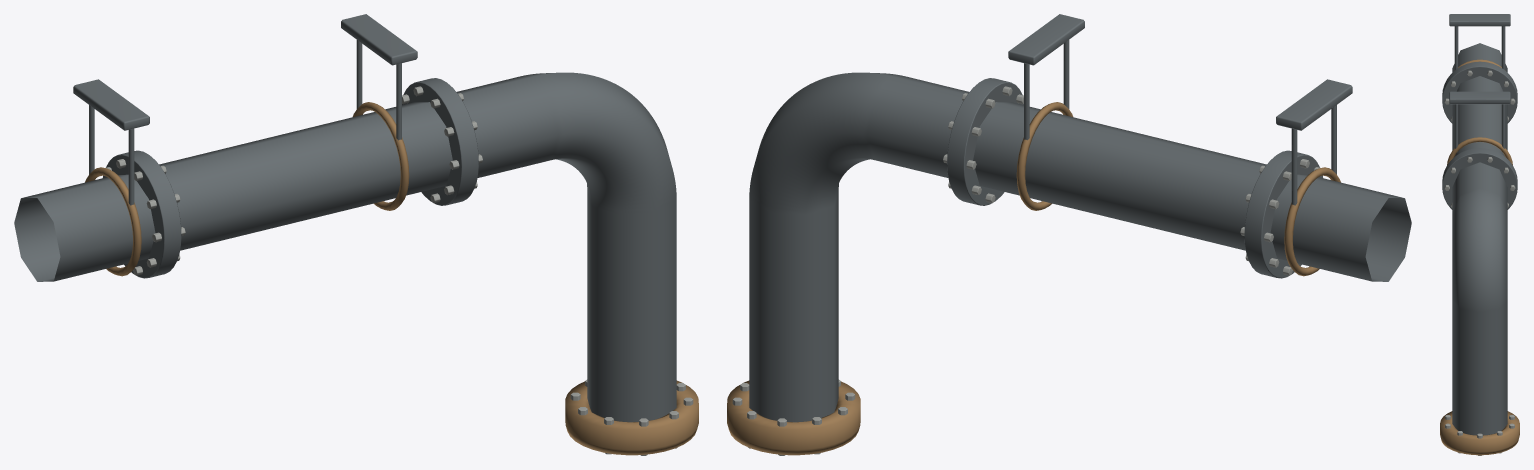
Rendered from foundry-feed.glb.
3 views of the same model, side by side, from view 1: azimuth 30°, elevation 25°; view 2: azimuth 150°, elevation 25°; view 3: azimuth 270°, elevation 25° (orthographic). The views are drawn at different scales.
Visible parts, largest first — view 1: FeedPipe_Foundry_Iron, FeedPipe_Foundry_Bronze, FeedPipe_Foundry_Machined; view 2: FeedPipe_Foundry_Iron, FeedPipe_Foundry_Bronze, FeedPipe_Foundry_Machined; view 3: FeedPipe_Foundry_Iron, FeedPipe_Foundry_Bronze, FeedPipe_Foundry_Machined.
Part boxes in pixels (<box>): FeedPipe_Foundry_Iron: <box>14,14,676,422</box>; FeedPipe_Foundry_Bronze: <box>85,102,698,455</box>; FeedPipe_Foundry_Machined: <box>105,86,693,455</box>; FeedPipe_Foundry_Iron: <box>749,14,1411,422</box>; FeedPipe_Foundry_Bronze: <box>727,102,1340,455</box>; FeedPipe_Foundry_Machined: <box>732,86,1320,455</box>; FeedPipe_Foundry_Iron: <box>1442,14,1517,435</box>; FeedPipe_Foundry_Bronze: <box>1440,59,1519,455</box>; FeedPipe_Foundry_Machined: <box>1444,70,1515,455</box>.
Bounding box in the file's own units: 4.39 × 2.94 × 0.78.
